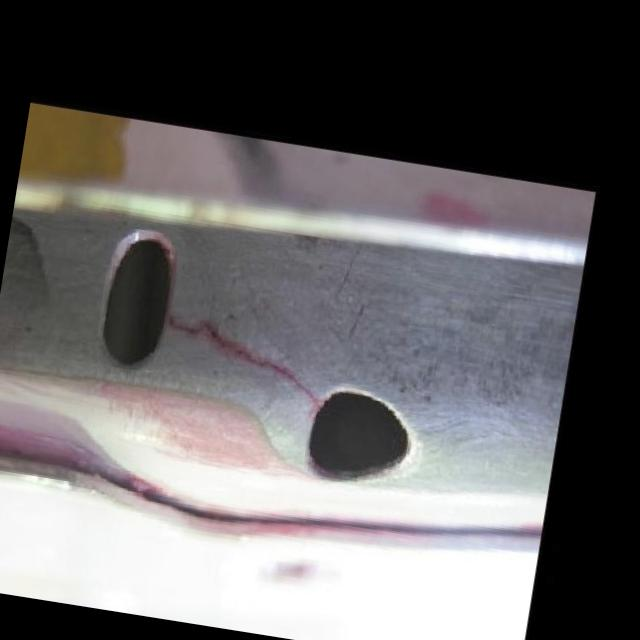crack: (196, 322, 242, 353), (238, 352, 289, 378), (286, 379, 323, 405), (168, 314, 196, 338)
